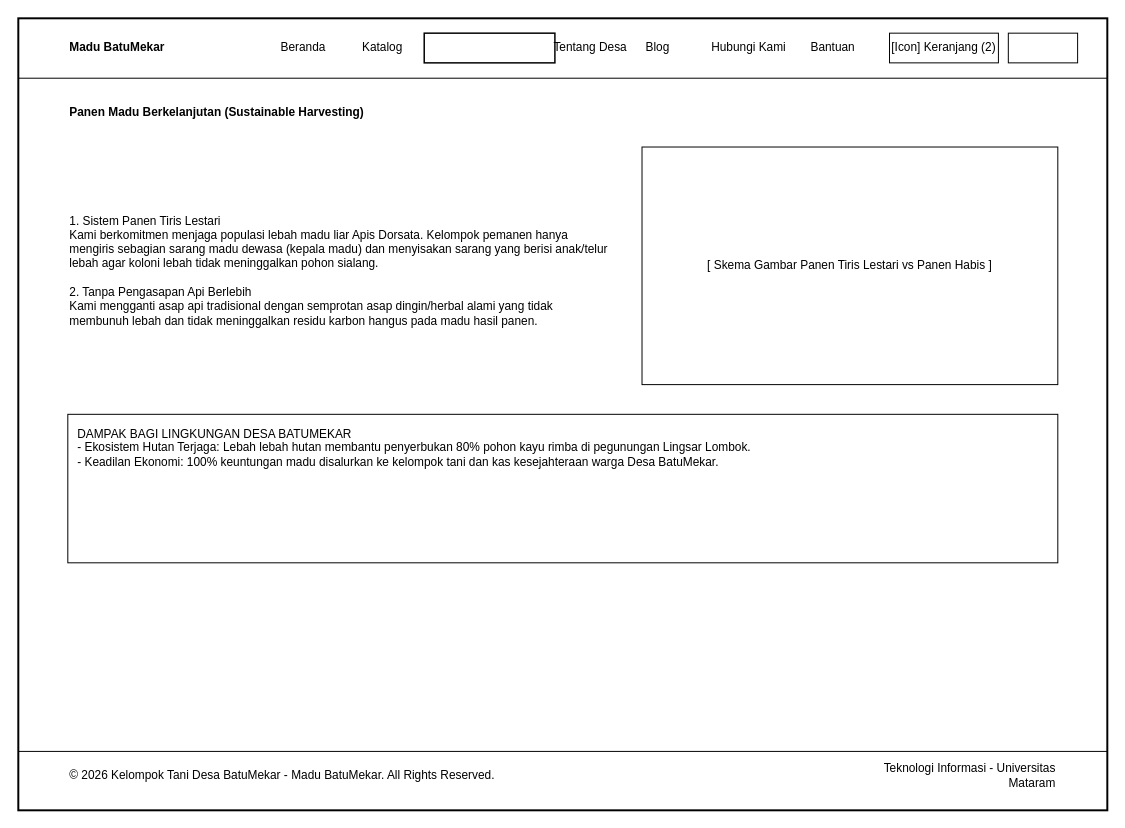
This 1125x828 diagram has some shape labels left out. Here are the shapes that lost their labels. From the top down, the centre of each, then its label:
the point at 489,47: Kalender Panen
the point at 1042,47: [Icon] Akun
